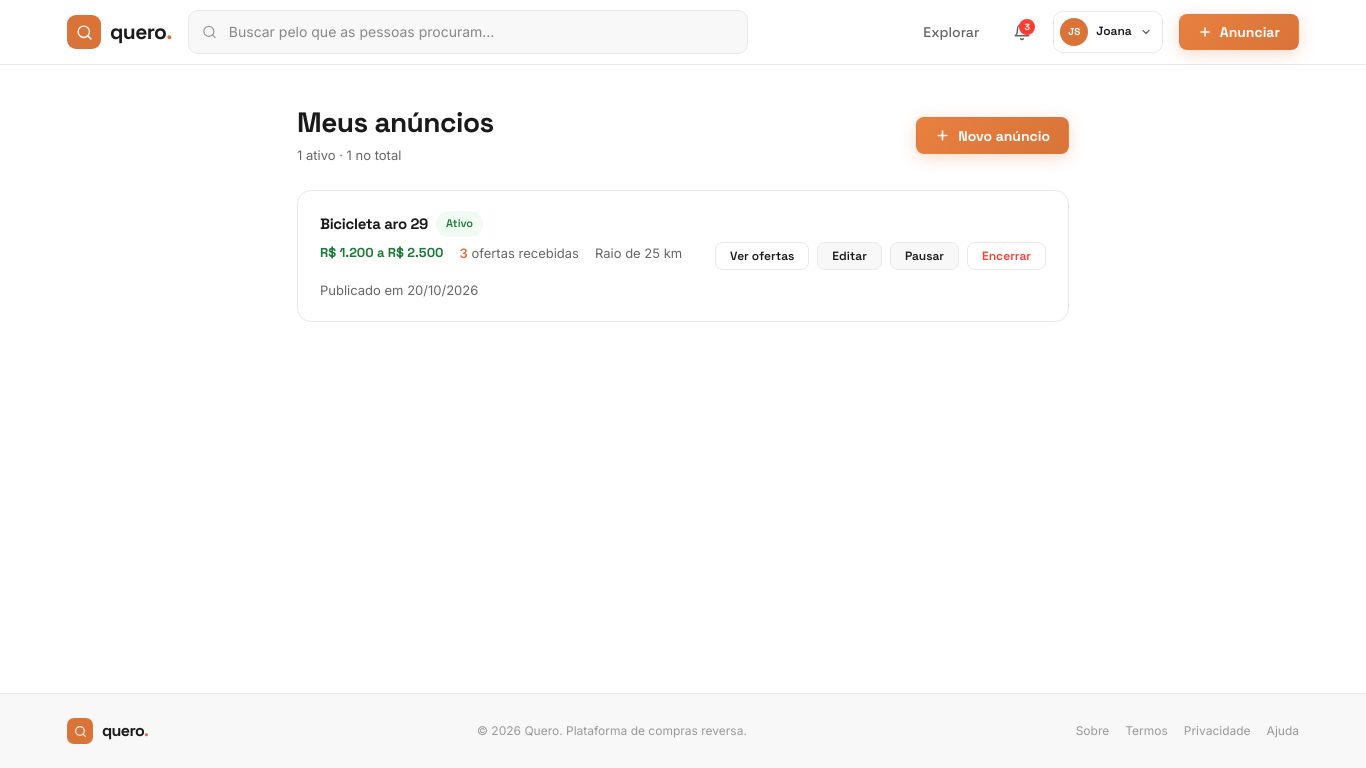
Test case: meus anúncios › mostra a recusa do backend quando a transição não vale mais
The image size is (1366, 768).
Step 1. Click the button "Pausar" → (924, 256), box [890, 242, 959, 270]
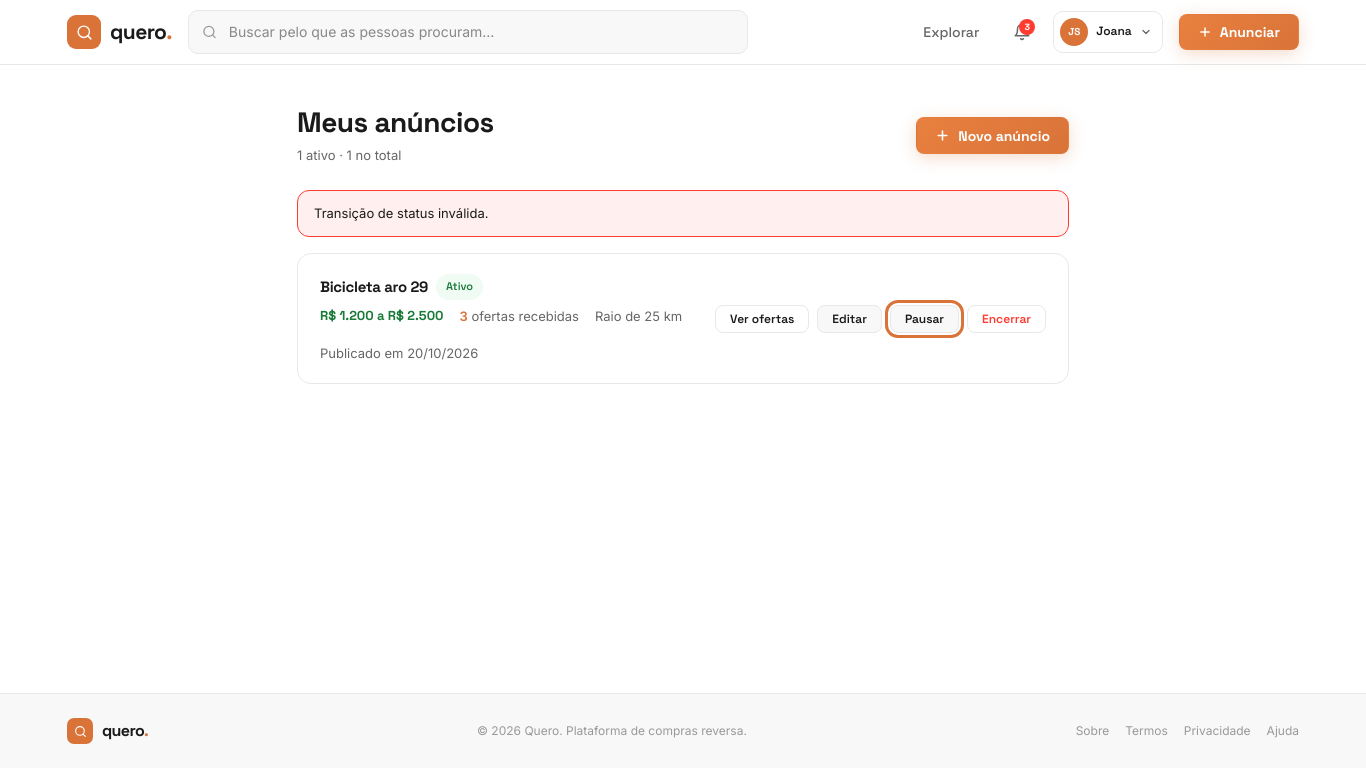
Result: the message reads "Transição de status inválida." at [314, 205, 488, 221]
